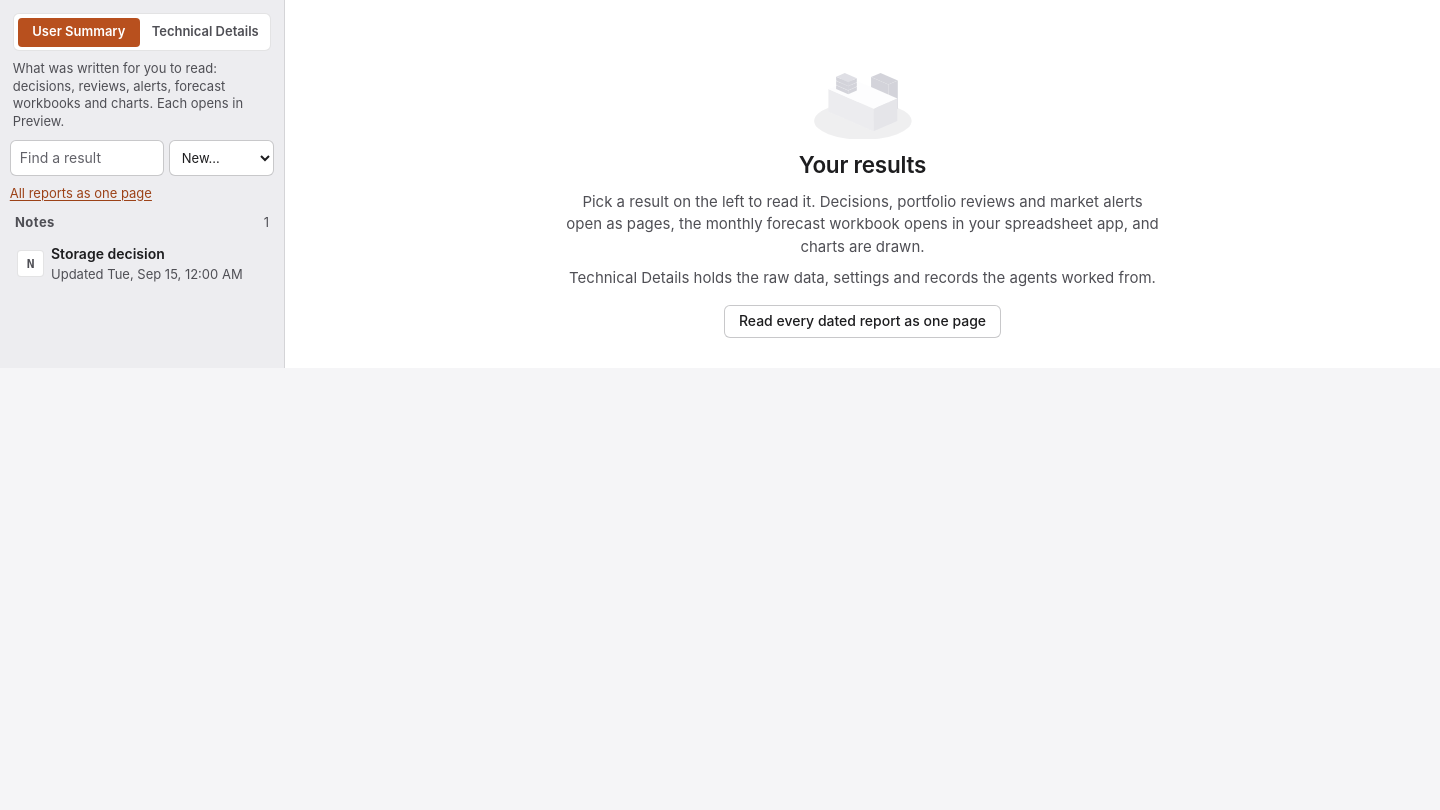
knowledge vault › folds the run summaries, which Saved context manages, until asked
This screenshot has width=1440, height=810.
Click the tab "Technical Details". click: coordinates (205, 32)
box: [144,18,266,47]
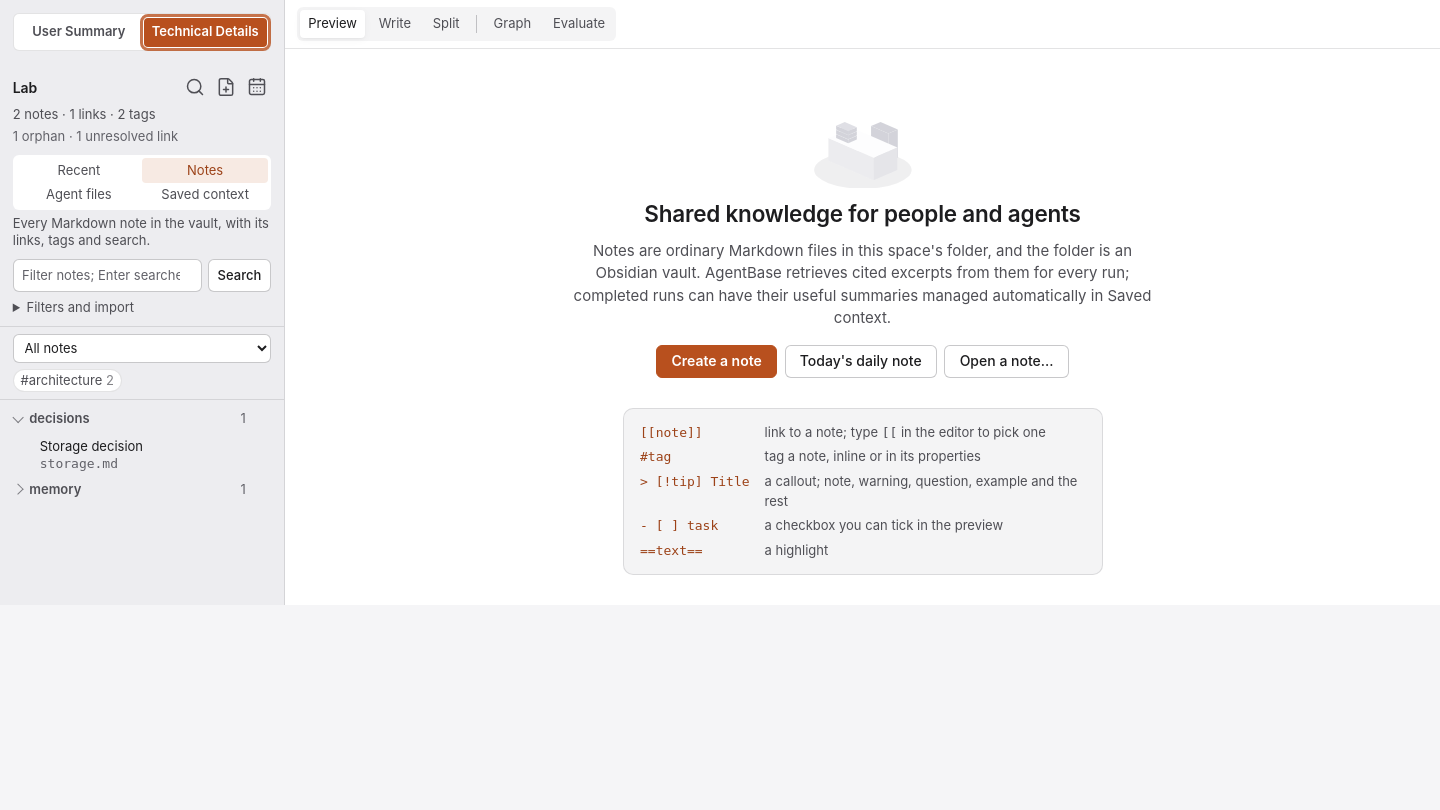
Check: the text "Storage decision" is shown, box [40,438,143,454]
Check: the text "Run memory: Decide" is not shown
Click the button "memory 1". click: coordinates (130, 490)
box: [6,476,253,504]
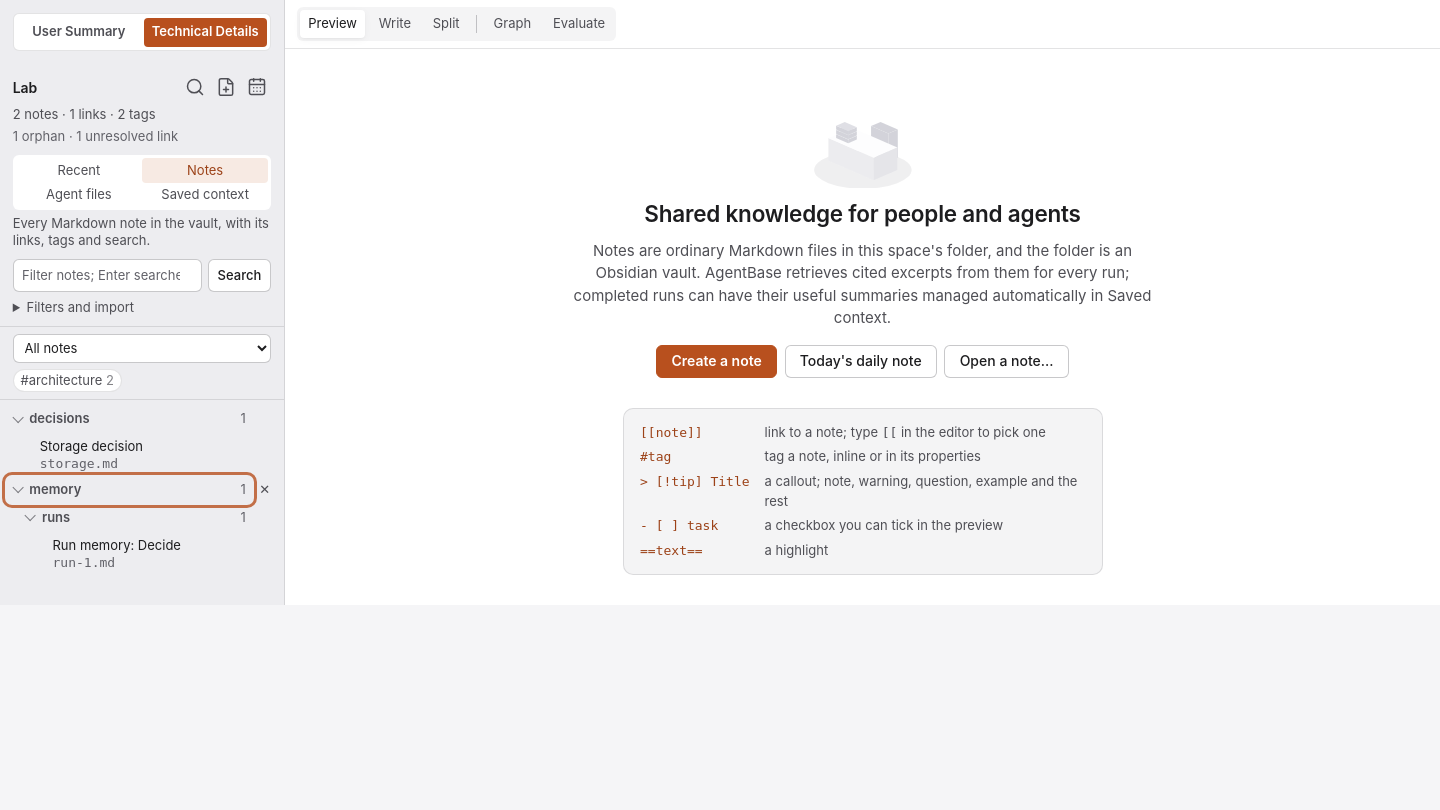
Check: the text "Run memory: Decide" is shown, box [52,537,181,553]
